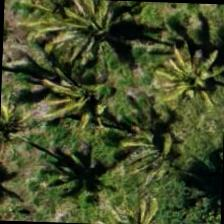Kelapa_Sawit: (112, 105, 205, 198), (38, 55, 131, 148), (150, 31, 223, 124), (56, 0, 149, 70), (0, 85, 64, 178), (2, 0, 88, 48)
